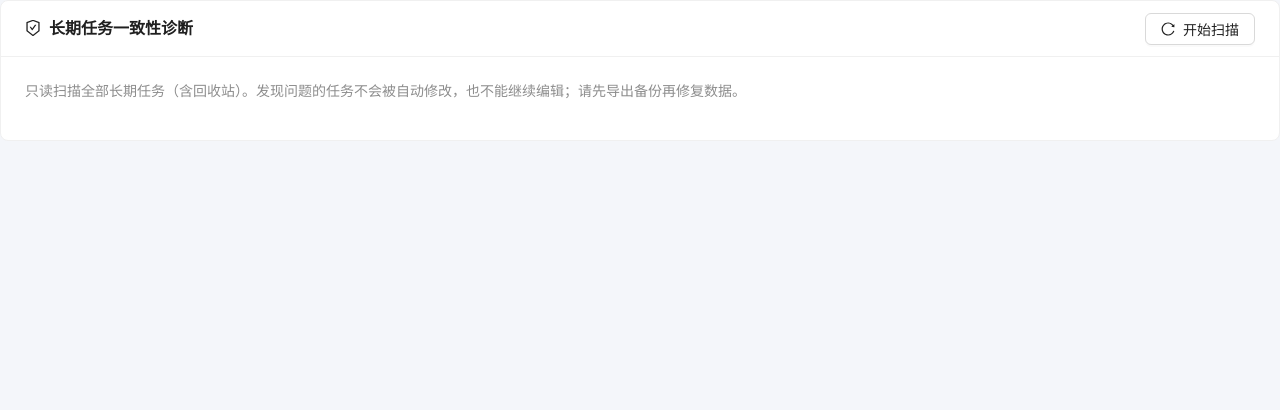
Test case: LongTaskDiagnosticsCard › 健康数据扫描后显示没有一致性问题
What coordinates should you click on to do the following:
click the button "开始扫描"
I would click on:
 (1200, 28)
Its box is [1145, 12, 1255, 44].
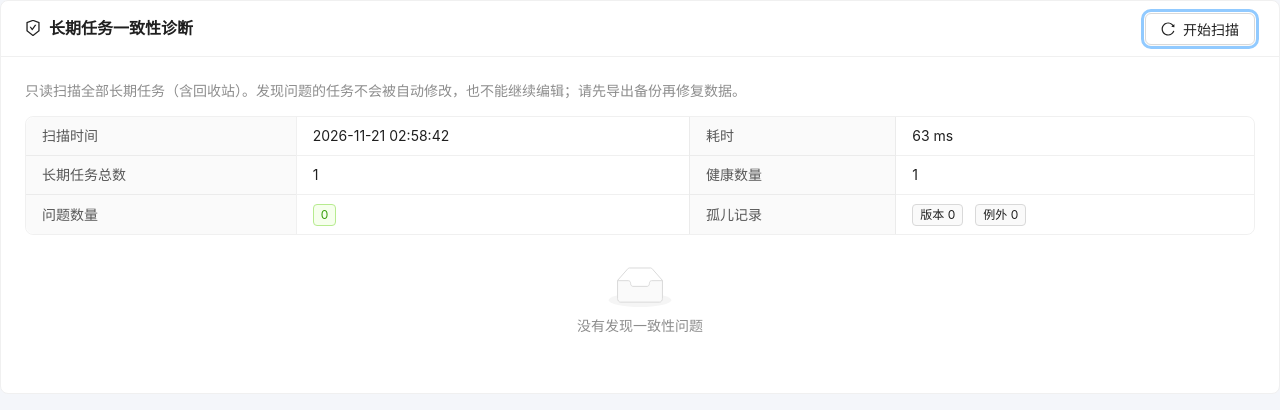
Expected: the text "没有发现一致性问题" is shown, [577, 317, 703, 334]
Expected: the text "健康数量" is shown, [706, 166, 762, 183]
